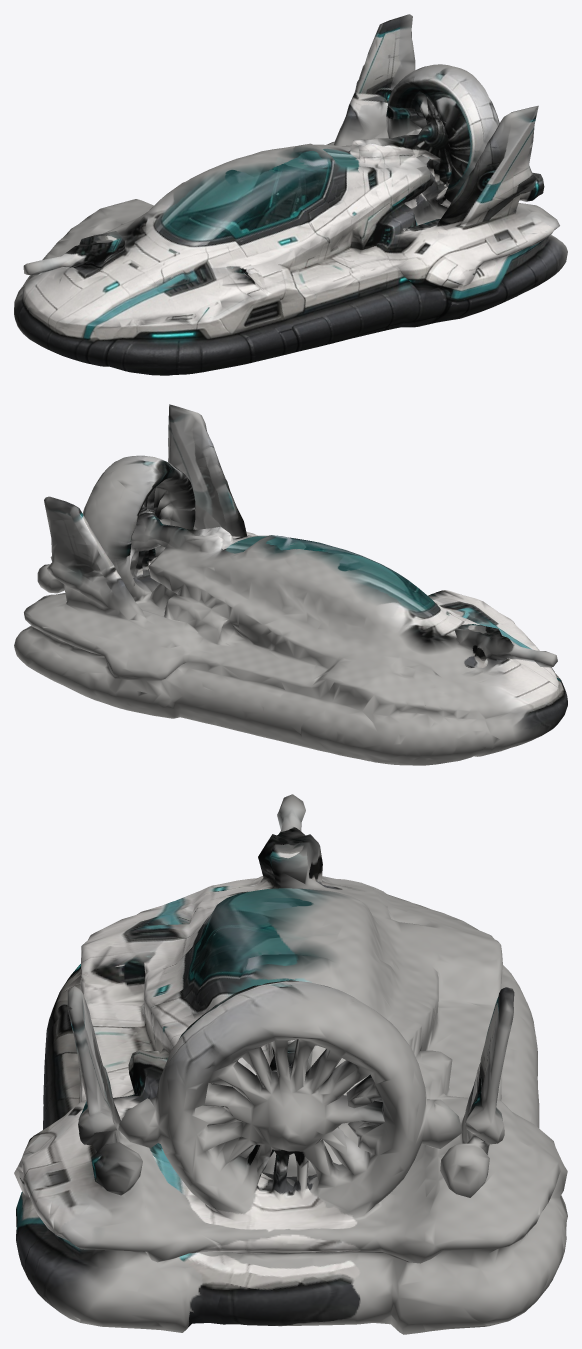
The model's file is skink_lod0.glb.
3 renders of one model, top to bottom at view 1: azimuth 30°, elevation 25°; view 2: azimuth 150°, elevation 25°; view 3: azimuth 270°, elevation 25°, orthographic. The views are drawn at different scales.
Visible parts, largest first — view 1: geometry_0; view 2: geometry_0; view 3: geometry_0.
Boxes of the visible parts, x1,y1,x2,y2 form: geometry_0: (14, 14, 567, 375); geometry_0: (14, 404, 567, 765); geometry_0: (14, 794, 567, 1334).
Size of the model in its own units: 2 by 0.7764 by 1.14.
Materials: 1 (1 with a texture image).
